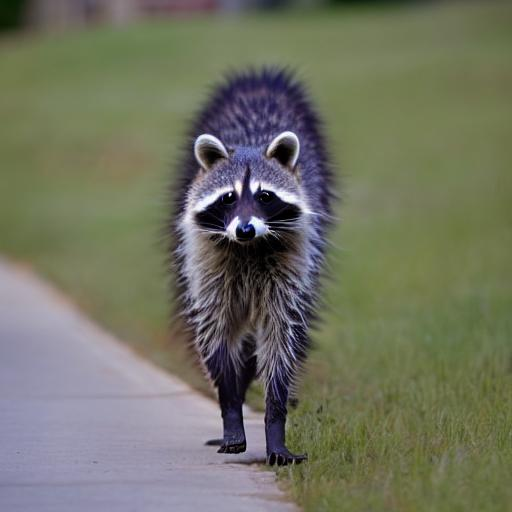raccoon: (168, 63, 336, 375)
